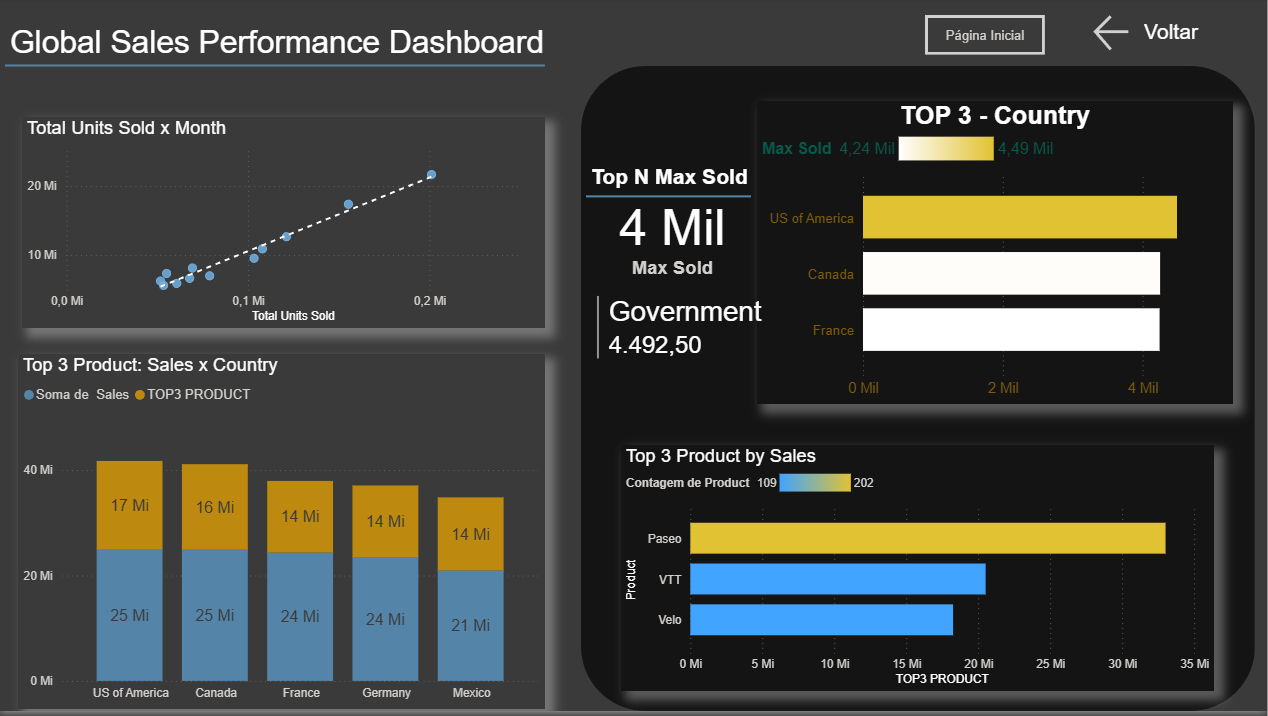

Layout of this report page (visuals, bound fields, positions):
{"tool":"powerbi","page":{"name":"TopN","canvas":[1280,720],"ordinal":3},"visuals":[{"type":"shape","box":[587.5,68.6,680.4,651.1],"z":0,"group":"g2"},{"type":"clusteredBarChart","title":"TOP 3 - Country","fields":{"Category":["financials.Country"],"Y":["financials.Máximo sold"]},"box":[764.6,104.2,480.8,306.3],"z":0,"group":"g1"},{"type":"columnChart","title":"Top 3 Product: Sales x Country","fields":{"Category":["financials.Country"],"Y":["Sum(financials. Sales)","financials.TOP3 PRODUCT"]},"box":[19.2,359.4,532,358.4],"z":0},{"type":"scatterChart","title":"Total Units Sold x Month","fields":{"Y":["Sum(financials. Sales)"],"X":["Sum(financials.Units Sold)"],"Category":["financials.Date.Variation.Hierarquia de datas.Mês"]},"box":[23.2,120.1,527.9,213],"z":1000},{"type":"card","fields":{"Values":["financials.Máximo sold"]},"box":[592.5,180.5,174.6,116.2],"z":1000,"group":"g1"},{"type":"clusteredBarChart","title":"Top 3 Product by Sales","fields":{"Category":["financials.Product"],"Y":["financials.TOP3 PRODUCT"]},"box":[627.9,450.8,598.6,248.3],"z":1000,"group":"g2"},{"type":"textbox","box":[6.1,21.2,558.2,56.5],"z":2000},{"type":"group","id":"g1","title":"CARD","box":[592.5,104.2,652.9,306.3],"z":2000,"group":"g2"},{"type":"multiRowCard","fields":{"Values":["financials.Máximo sold","financials.Segment"]},"box":[598.6,295.7,196.8,89.9],"z":2000,"group":"g1"},{"type":"shape","box":[6.1,49.5,545.1,37.4],"z":3000},{"type":"textbox","box":[592.5,163.2,171.6,35.6],"z":3000,"group":"g2"},{"type":"shape","box":[593,179.6,166.6,41.2],"z":3000,"group":"g1"},{"type":"group","id":"g2","title":"DESTAQUE","box":[587.5,68.6,680.4,651.1],"z":4000},{"type":"textbox","box":[1150.8,17.2,98.9,44.4],"z":4002},{"type":"actionButton","box":[934.8,17.2,121.1,40.4],"z":4003},{"type":"actionButton","box":[1099.9,11.8,136.7,46.2],"z":4004}]}

Visuals, with their boxes in screenshot pixels (x1, y1, x2, y2), scaled from the page's 1280x720 canvas onto the 1268x716 screenshot:
shape: BBox(582, 68, 1256, 715)
"TOP 3 - Country" clusteredBarChart: BBox(757, 104, 1234, 408)
"Top 3 Product: Sales x Country" columnChart: BBox(19, 357, 546, 714)
"Total Units Sold x Month" scatterChart: BBox(23, 119, 546, 331)
card - financials.Máximo sold: BBox(587, 179, 760, 295)
"Top 3 Product by Sales" clusteredBarChart: BBox(622, 448, 1215, 695)
textbox: BBox(6, 21, 559, 77)
"CARD" group: BBox(587, 104, 1234, 408)
multiRowCard - financials.Máximo sold x financials.Segment: BBox(593, 294, 788, 383)
shape: BBox(6, 49, 546, 86)
textbox: BBox(587, 162, 757, 198)
shape: BBox(587, 179, 752, 220)
"DESTAQUE" group: BBox(582, 68, 1256, 715)
textbox: BBox(1140, 17, 1238, 61)
actionButton: BBox(926, 17, 1046, 57)
actionButton: BBox(1090, 12, 1225, 58)
